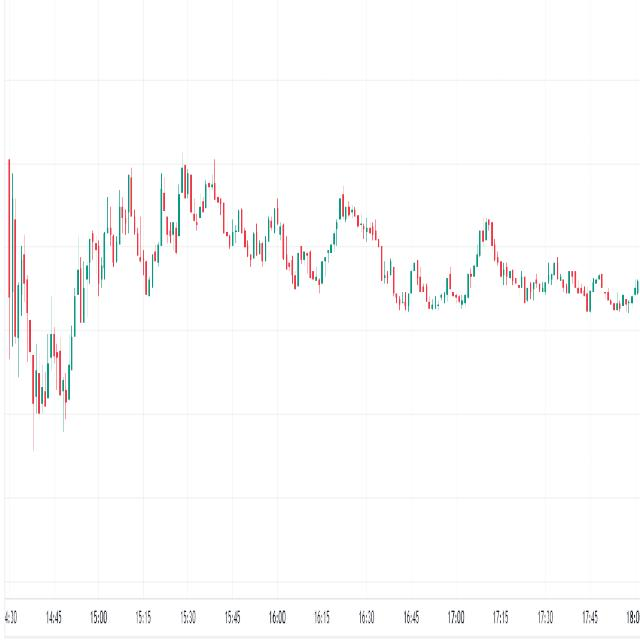Channel-up: (63, 140, 149, 357)
